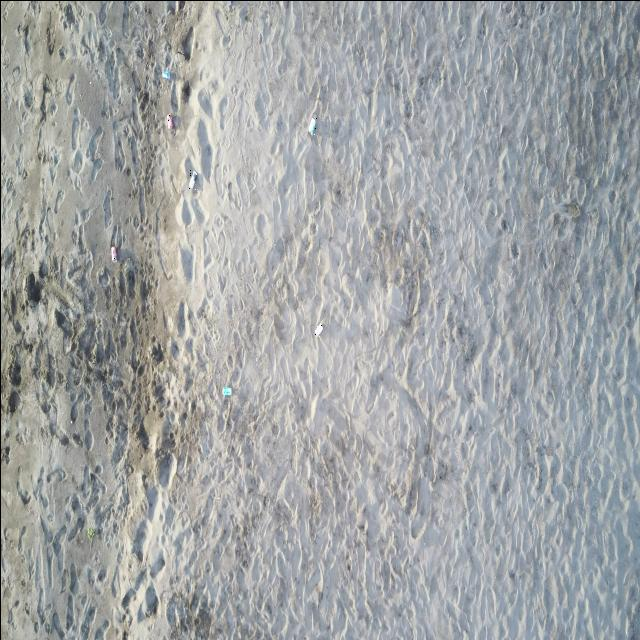Garbage: (187, 169, 196, 188), (85, 527, 96, 540), (307, 115, 314, 135), (313, 323, 323, 335), (161, 69, 171, 79), (167, 114, 173, 128), (111, 246, 116, 260), (223, 387, 231, 395)
